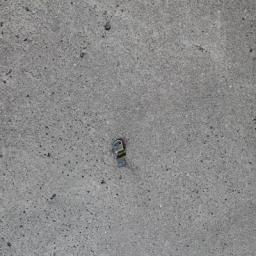FOD: (109, 138, 137, 173)
